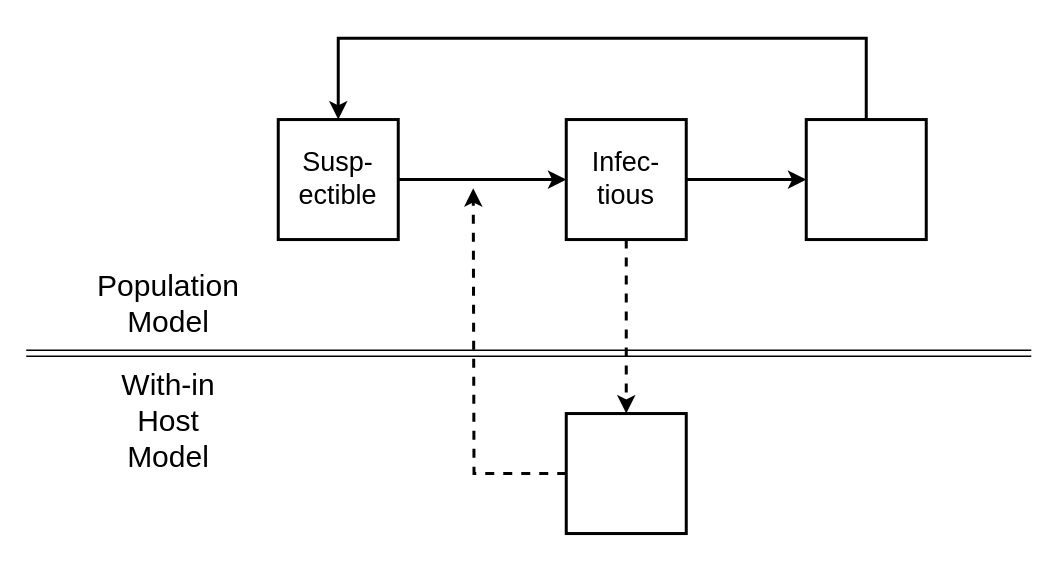
The diagram is 1058 pixels wide and 561 high, and some of its shapes have lost their labels. The shapes that lost their labels are listed below. From the top down, each one's centre as x and y in pixels, then its label:
(865,178): Recover
(625,472): Game-tocyte Load
